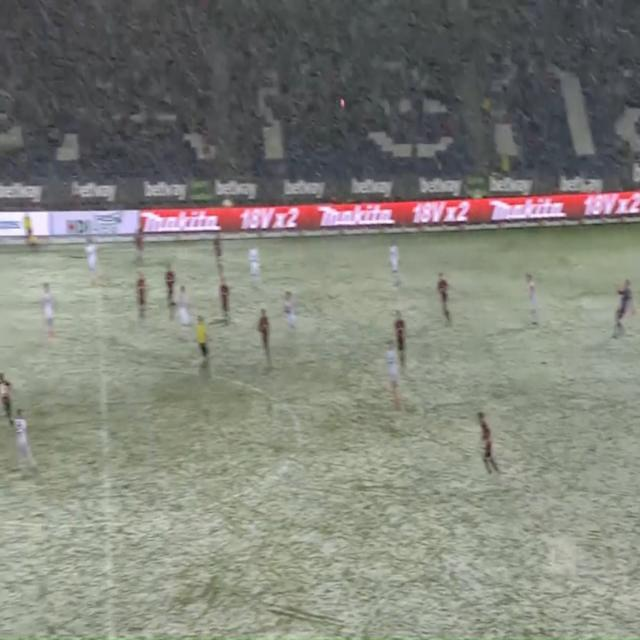ball: (339, 97, 346, 113)
goalkeeper: (609, 270, 637, 348)
player: (13, 401, 40, 482), (474, 401, 499, 484), (382, 339, 407, 411), (254, 296, 276, 374), (391, 305, 412, 377), (38, 276, 59, 344), (158, 257, 178, 327), (433, 264, 454, 329), (523, 265, 543, 333), (384, 239, 406, 299), (133, 262, 153, 326), (84, 230, 104, 293), (281, 286, 301, 346), (0, 361, 16, 430), (245, 241, 265, 295), (176, 277, 192, 343), (209, 226, 228, 279), (135, 218, 153, 267), (219, 276, 234, 330)
referee: (192, 312, 215, 380), (20, 208, 41, 256)
